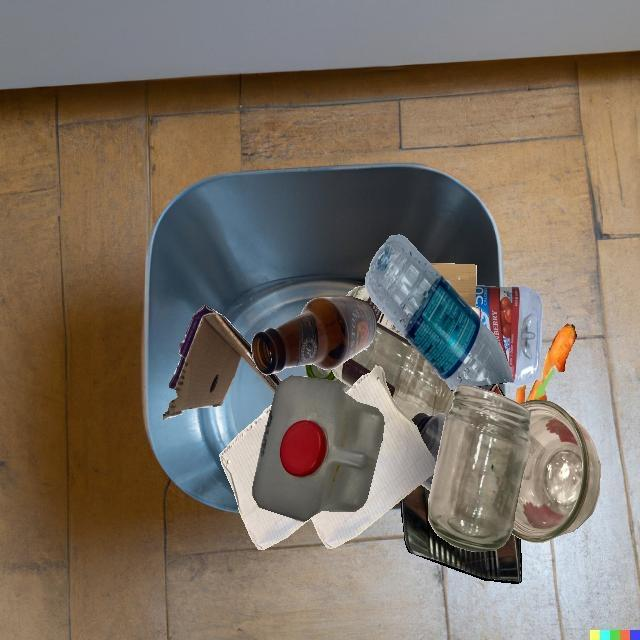biowaste: (526, 324, 576, 402)
cardboard: (163, 305, 282, 419), (430, 263, 482, 322)
glass: (428, 384, 531, 552), (332, 285, 455, 420), (511, 399, 600, 542), (251, 296, 377, 375), (305, 364, 347, 389)
metal: (401, 484, 521, 583)
paper: (311, 366, 436, 549), (219, 404, 315, 550)
plastic: (365, 234, 513, 390), (252, 376, 384, 522), (476, 285, 542, 386), (411, 412, 447, 464)
trash: (489, 385, 505, 397)
